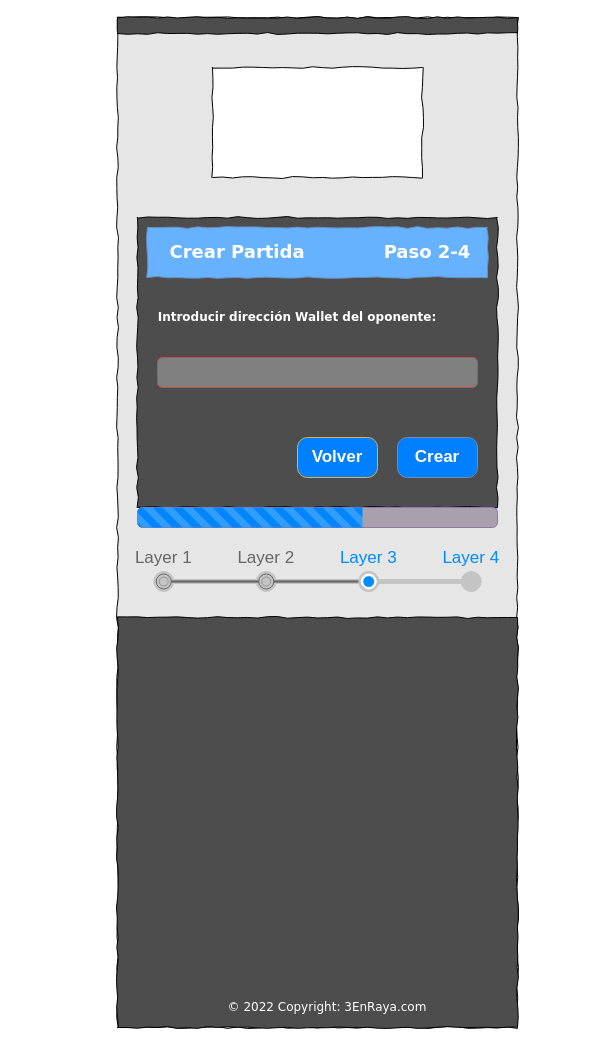
Some shapes in this 594 by 1045 pixel diagram are drawn without their labels. The box of each missing label's shape, as (x1, y1, x2, y2) in pixels:
Dirección del oponente: (156, 356, 478, 388)
LOGO: (212, 66, 422, 178)
